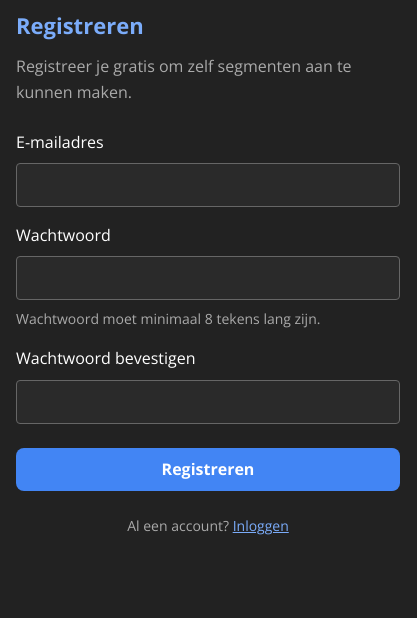
Test: SignupForm.tsx › Error flow › form renders error when signup fails
This screenshot has width=417, height=618.
Type "a@a.nl" into the field labelled "E-mailadres". click: point(208, 185)
box: [16,163,400,207]
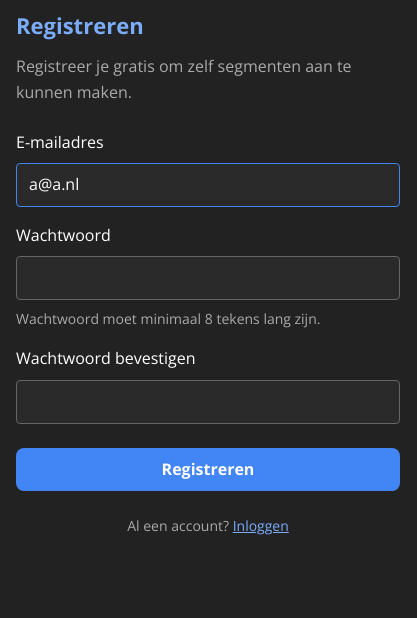
Type "password123" into the password field labelled "Wachtwoord". click: point(208, 278)
box: [16,256,400,300]
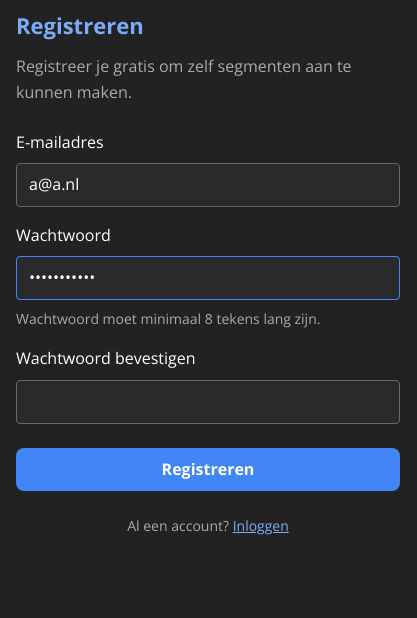
Type "password123" into the password field labelled "Wachtwoord bevestigen". click: point(208, 402)
box: [16,380,400,424]
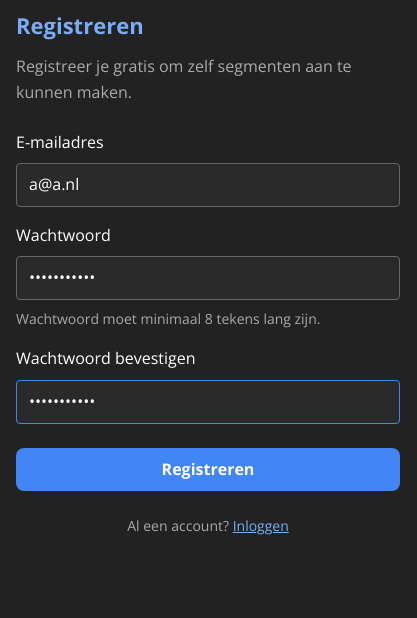
Submit the form
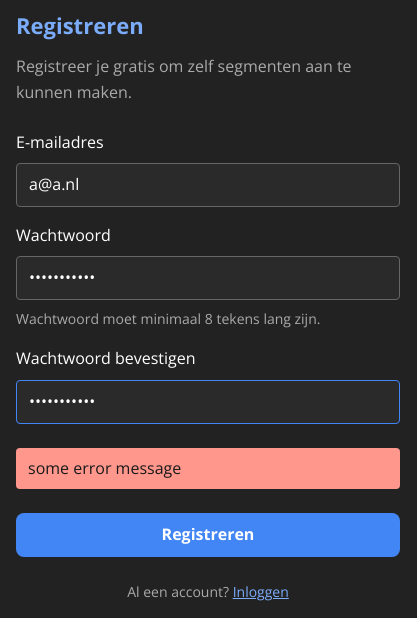
expect the text "some error message" is shown: met, box [16,448,400,489]
